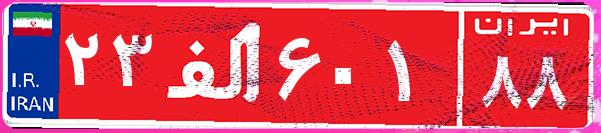0: (330, 28, 385, 110)
1: (385, 28, 445, 110)
2: (57, 26, 110, 107)
3: (110, 28, 158, 105)
6: (273, 28, 330, 110)
8: (475, 38, 525, 113), (525, 38, 570, 115)
الف: (158, 15, 273, 115)
